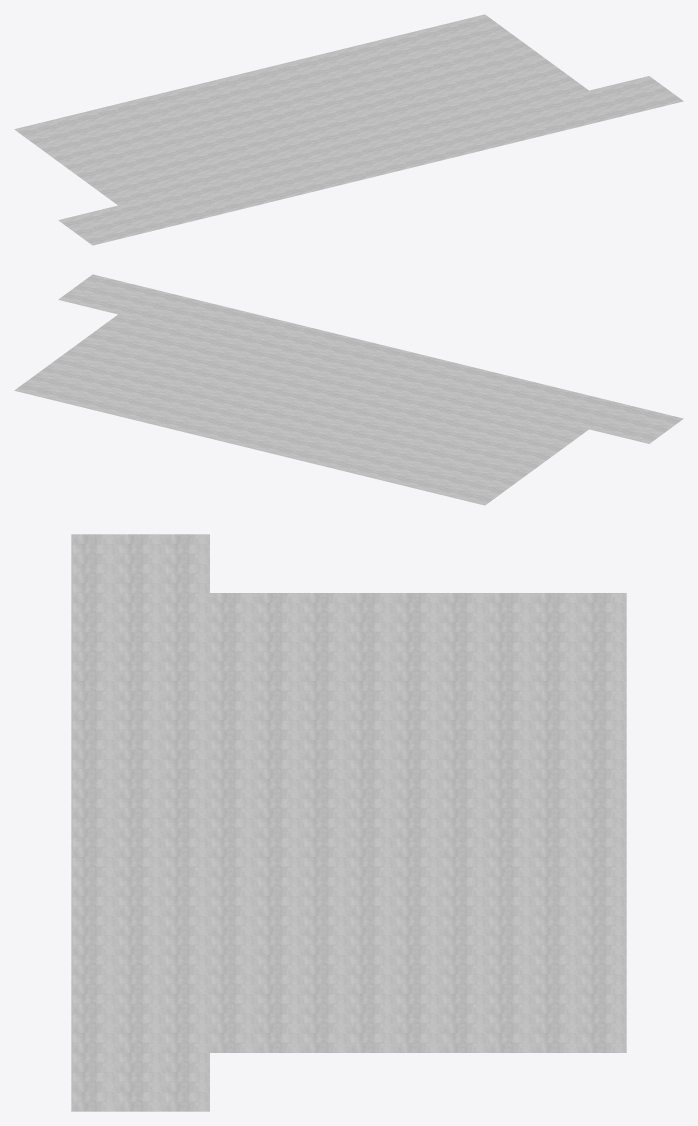
3 views of the same model, one above another, from view 1: azimuth 30°, elevation 25°; view 2: azimuth 150°, elevation 25°; view 3: azimuth 270°, elevation 25° (orthographic). The views are drawn at different scales.
Parts seen in each view (by area): view 1: M_F_001_h_94x36; view 2: M_F_001_h_94x36; view 3: M_F_001_h_94x36.
Boxes of the visible parts, x1,y1,x2,y2 form: M_F_001_h_94x36: (14,14,683,245); M_F_001_h_94x36: (14,274,683,505); M_F_001_h_94x36: (71,534,626,1111).
Bounding box in the file's own units: 118 × 2.1e-06 × 48.
